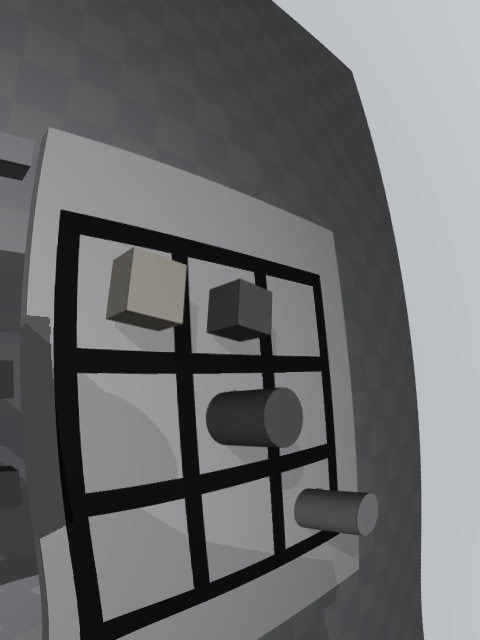can: (294, 488, 379, 536)
cube: (207, 279, 272, 341)
cylinder: (206, 388, 303, 448)
foam: (106, 247, 187, 331)
